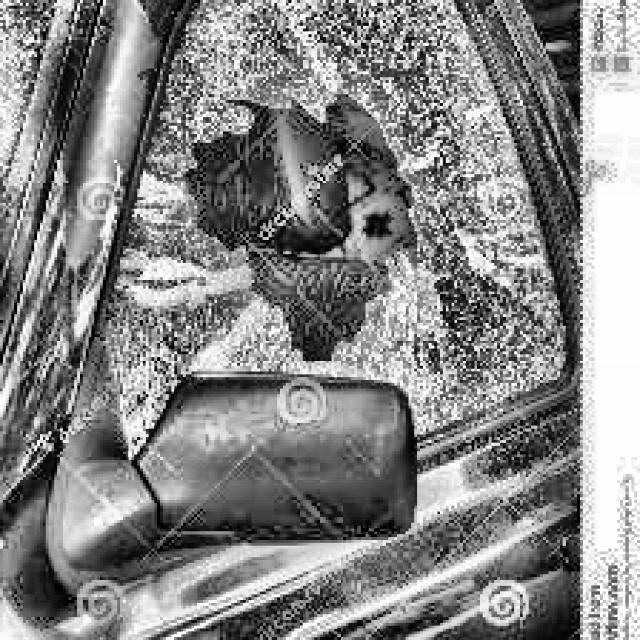glass_shatter: (174, 98, 434, 368)
